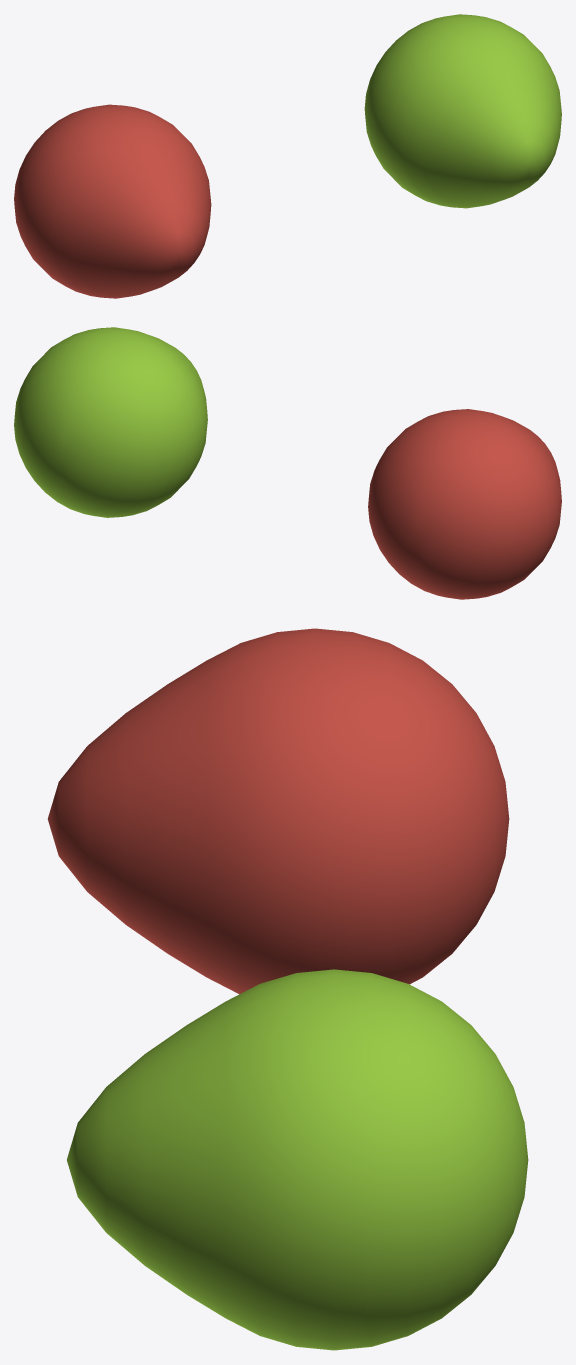
File: Ballon.gltf
3 renders of one model, top to bottom at view 1: azimuth 30°, elevation 25°; view 2: azimuth 150°, elevation 25°; view 3: azimuth 270°, elevation 25°, orthographic. The views are drawn at different scales.
Parts seen in each view (by area): view 1: Sphere.001, Sphere; view 2: Sphere, Sphere.001; view 3: Sphere.001, Sphere.
Part boxes in pixels (x1,y1,x2,y2): Sphere.001: (364,14,561,208); Sphere: (14,104,211,298); Sphere: (368,409,561,599); Sphere.001: (14,327,207,517); Sphere.001: (67,969,528,1350); Sphere: (47,628,509,994).
Bounding box in the file's own units: 30.88 × 9.82 × 12.42.
